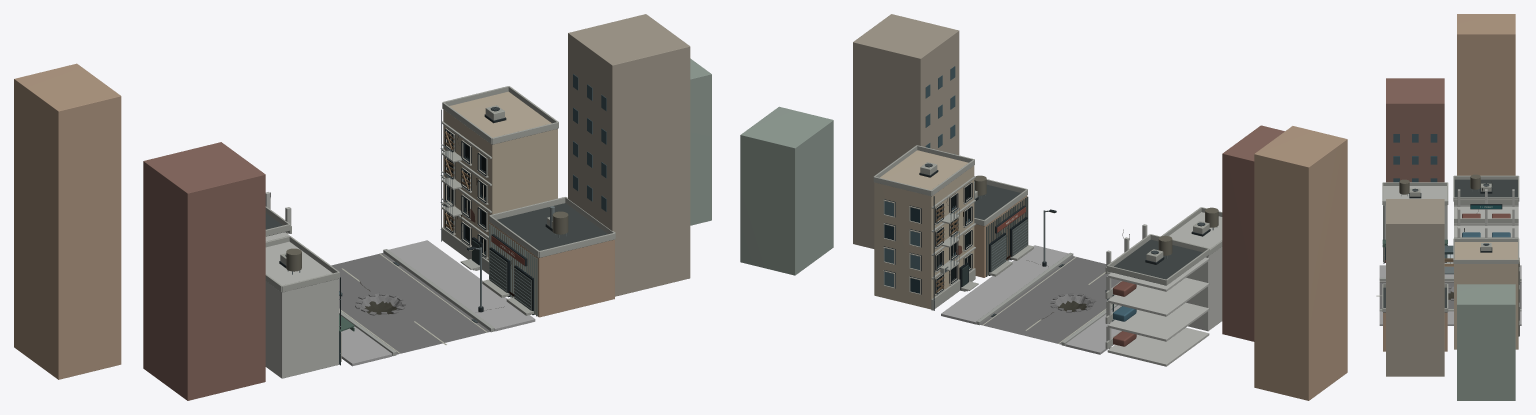
File: city_hd_14.glb
The picture shows the model from 3 angles, left to right: view 1: azimuth 30°, elevation 25°; view 2: azimuth 150°, elevation 25°; view 3: azimuth 270°, elevation 25°; orthographic projection. The views are drawn at different scales.
Visible parts, largest first — view 1: CITY_realwall_b29982, Background city building, Background city building.002, Masonry apartment volume, CITY_PBR_asphalt, CITY_storefront, CITY_trim, CITY_PBR_pavement, Background city building.003, CITY_roof, CITY_recess, CITY_door_metal (+7 smaller); view 2: CITY_realwall_b29982, Background city building.002, Background city building.003, CITY_storefront, Masonry apartment volume, Background city building, CITY_PBR_asphalt, CITY_trim, CITY_PBR_pavement, CITY_roof, CITY_recess, CITY_frame (+10 smaller); view 3: Background city building.002, CITY_realwall_b29982, Background city building.003, Background city building, Masonry apartment volume, CITY_storefront, CITY_trim, CITY_roof, CITY_realwall_929f96, CITY_darkmetal, CITY_PBR_pavement, CITY_PBR_asphalt (+5 smaller).
Part boxes in pixels (left/top/right/bottom): CITY_realwall_b29982: left=14, top=63, right=614, bottom=379; Background city building: left=143, top=142, right=265, bottom=400; Background city building.002: left=568, top=14, right=690, bottom=296; Masonry apartment volume: left=443, top=91, right=557, bottom=260; CITY_PBR_asphalt: left=331, top=253, right=490, bottom=354; CITY_storefront: left=265, top=192, right=338, bottom=378; CITY_trim: left=265, top=86, right=615, bottom=315; CITY_PBR_pavement: left=341, top=240, right=535, bottom=366; Background city building.003: left=690, top=58, right=711, bottom=225; CITY_roof: left=265, top=144, right=612, bottom=257; CITY_recess: left=445, top=128, right=533, bottom=314; CITY_door_metal: left=489, top=250, right=531, bottom=310; CITY_realwall_b29982: left=974, top=126, right=1347, bottom=400; Background city building.002: left=853, top=14, right=959, bottom=248; Background city building.003: left=740, top=106, right=833, bottom=275; CITY_storefront: left=1106, top=212, right=1222, bottom=366; Masonry apartment volume: left=874, top=150, right=974, bottom=309; Background city building: left=1222, top=125, right=1284, bottom=341; CITY_PBR_asphalt: left=980, top=256, right=1120, bottom=344; CITY_trim: left=873, top=145, right=1222, bottom=348; CITY_PBR_pavement: left=941, top=245, right=1120, bottom=354; CITY_roof: left=931, top=184, right=1208, bottom=285; CITY_recess: left=884, top=182, right=1027, bottom=294; CITY_frame: left=883, top=182, right=972, bottom=294; Background city building.002: left=1386, top=199, right=1444, bottom=376; CITY_realwall_b29982: left=1383, top=14, right=1515, bottom=351; Background city building.003: left=1457, top=284, right=1515, bottom=400; Background city building: left=1386, top=78, right=1444, bottom=182; Masonry apartment volume: left=1454, top=242, right=1518, bottom=349; CITY_storefront: left=1383, top=186, right=1518, bottom=261; CITY_trim: left=1382, top=175, right=1519, bottom=312; CITY_roof: left=1383, top=179, right=1517, bottom=312; CITY_realwall_929f96: left=1393, top=134, right=1437, bottom=182; CITY_darkmetal: left=1383, top=183, right=1502, bottom=263; CITY_PBR_pavement: left=1379, top=265, right=1521, bottom=325; CITY_PBR_asphalt: left=1379, top=281, right=1521, bottom=308.
Size of the model in its own units: 56 by 22.76 by 16.4.
